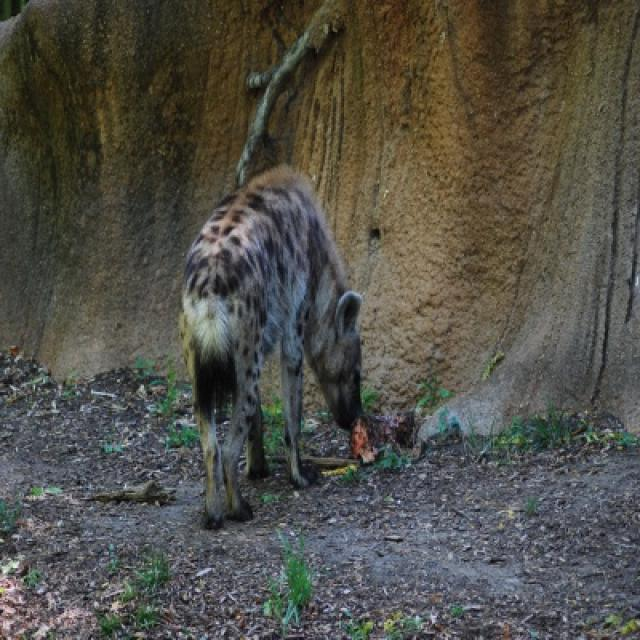hyena: (179, 166, 366, 526)
